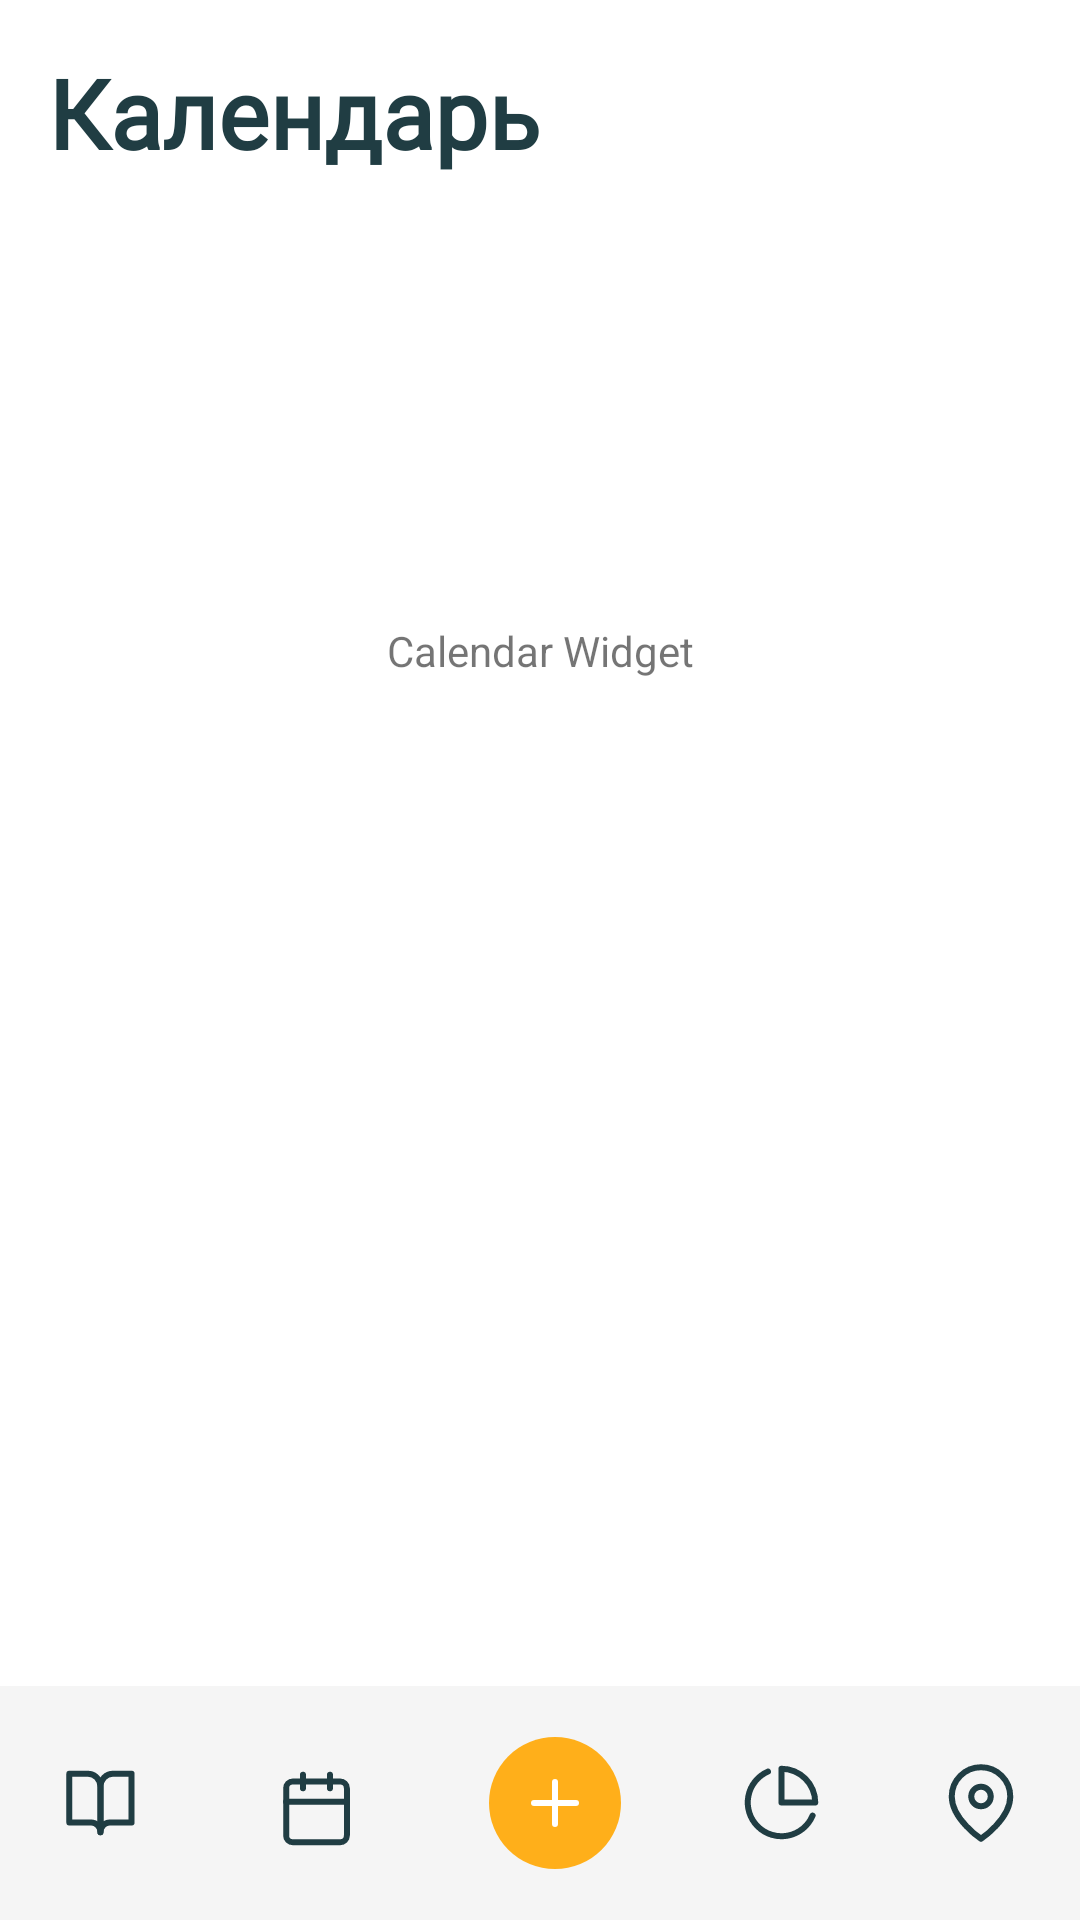

Icons on this 1080w x 1920h Android screen, each with the point to tap as [x,y]:
add: [555,1803]
books: [100,1803]
calendar: [316,1808]
map: [981,1803]
stats: [781,1802]
